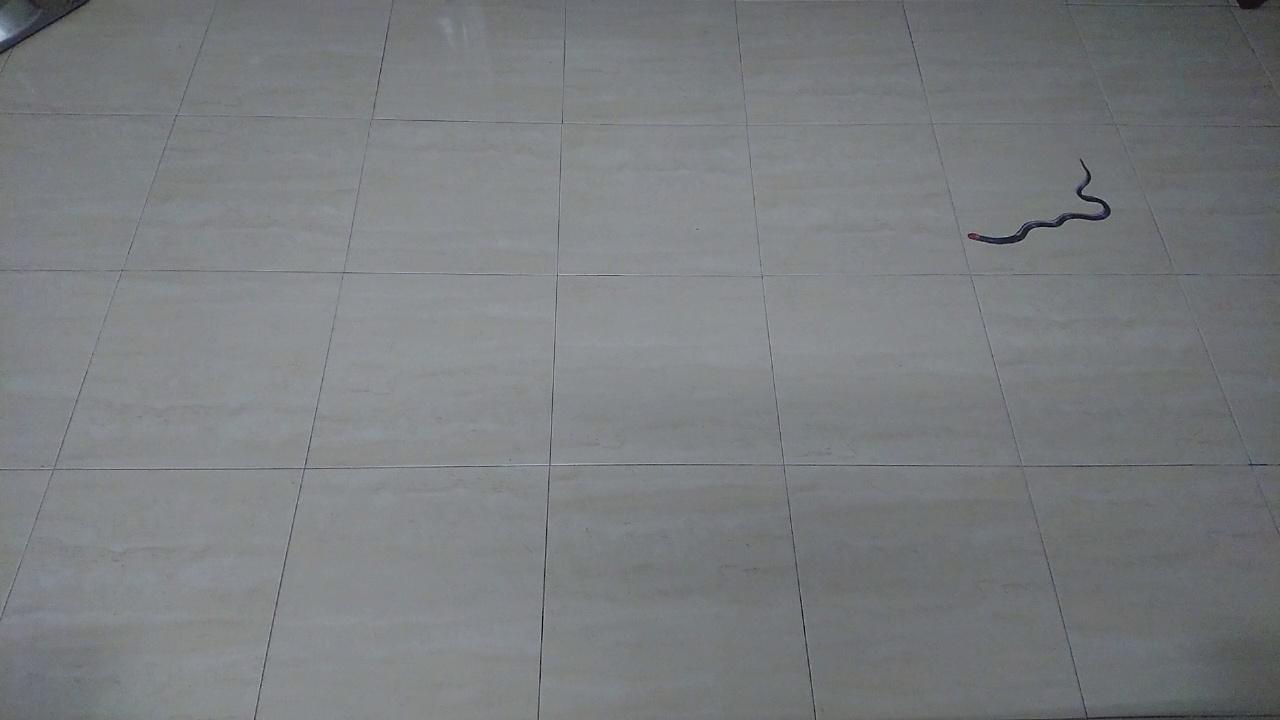snake: (953, 148, 1118, 257)
